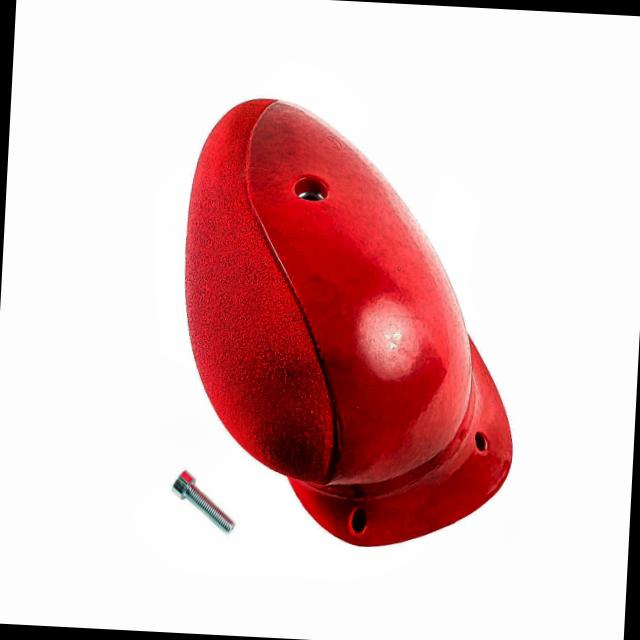Hold: (166, 92, 543, 556)
